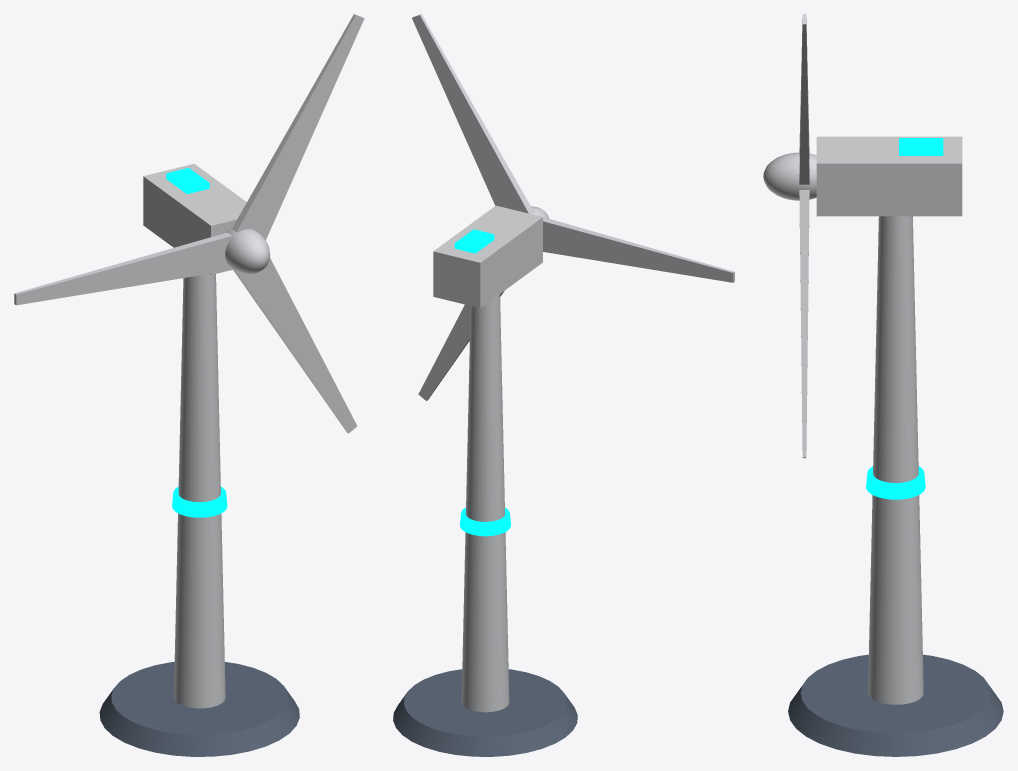
File: turbina.glb
3 renders of one model, left to right at view 1: azimuth 30°, elevation 25°; view 2: azimuth 150°, elevation 25°; view 3: azimuth 270°, elevation 25°, orthographic. The views are drawn at different scales.
Parts seen in each view (by area): view 1: Torre, Rotor, Base, Status; view 2: Torre, Rotor, Base, Status; view 3: Torre, Base, Rotor, Status.
Part boxes in pixels (bbox=[...]): Torre: bbox=[143, 163, 246, 708]; Rotor: bbox=[14, 14, 364, 433]; Base: bbox=[99, 662, 299, 756]; Status: bbox=[166, 168, 227, 517]; Torre: bbox=[433, 205, 542, 712]; Rotor: bbox=[412, 14, 734, 400]; Base: bbox=[393, 669, 577, 756]; Status: bbox=[454, 229, 510, 536]; Torre: bbox=[816, 136, 962, 704]; Base: bbox=[788, 654, 1003, 756]; Rotor: bbox=[763, 14, 816, 458]; Status: bbox=[866, 138, 943, 499].
Size of the model in its own units: 0.3408 by 0.6578 by 0.1895.
